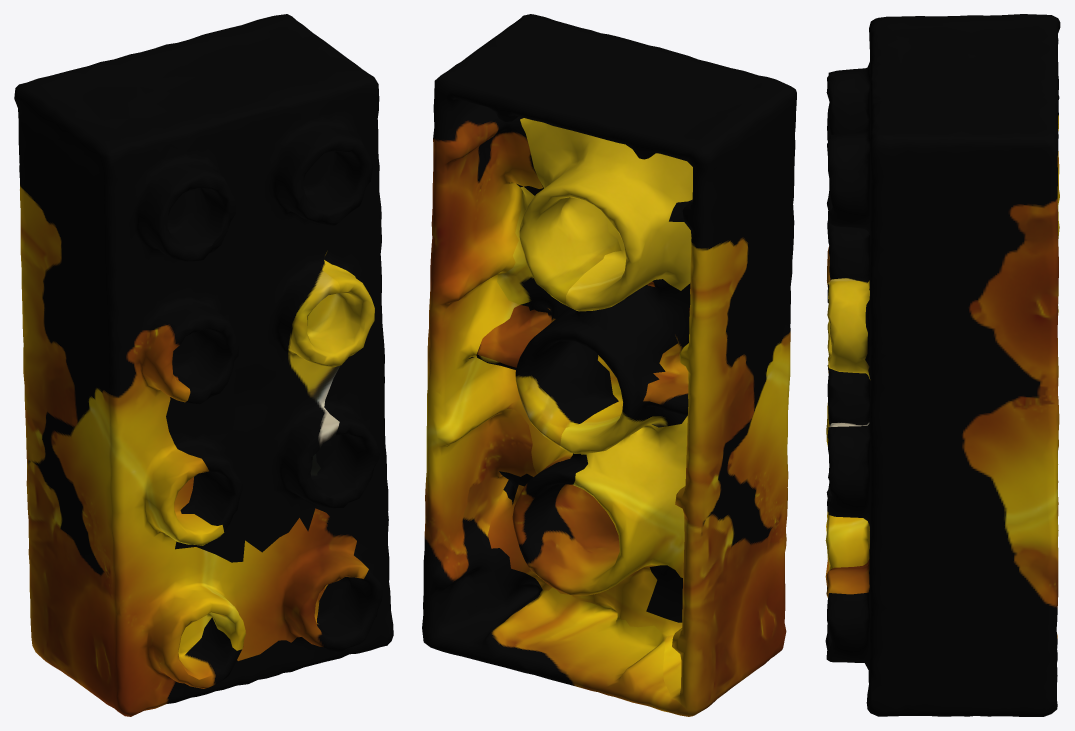
The picture shows the model from 3 angles, left to right: view 1: azimuth 30°, elevation 25°; view 2: azimuth 150°, elevation 25°; view 3: azimuth 270°, elevation 25°; orthographic projection.
Size of the model in its own units: 0.0339 by 0.0648 by 0.0237.
